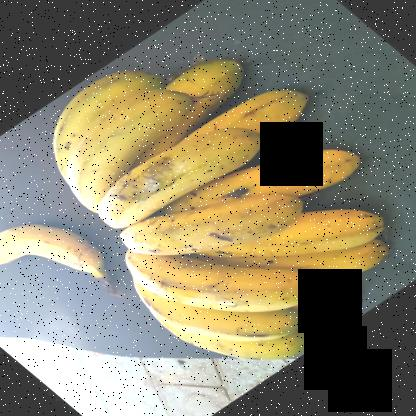ripe: (68, 127, 261, 248), (65, 90, 188, 226), (102, 197, 304, 274), (101, 258, 325, 321), (209, 148, 373, 218), (122, 300, 325, 344), (0, 217, 104, 298), (249, 219, 395, 251)
